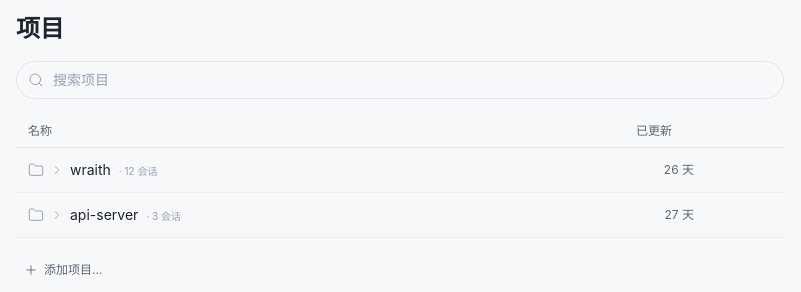
Test: ProjectsPanel 搜索 › 输入后只留命中的行
This screenshot has width=801, height=292.
Type "api" into the field with test id "projects-search" at (400, 80), box [16,61,784,99]
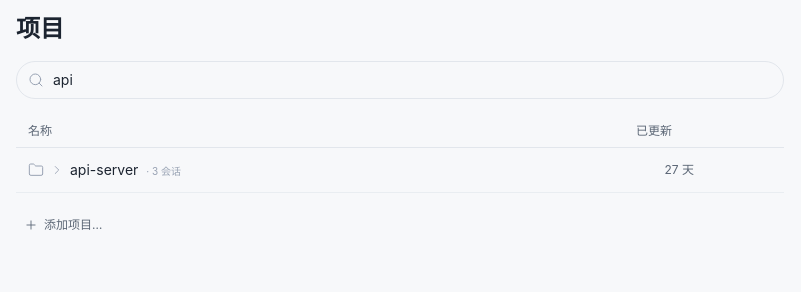
expect the text "api-server" is shown: met, box [70,160,138,180]
expect the button "wraith" is gone: met
